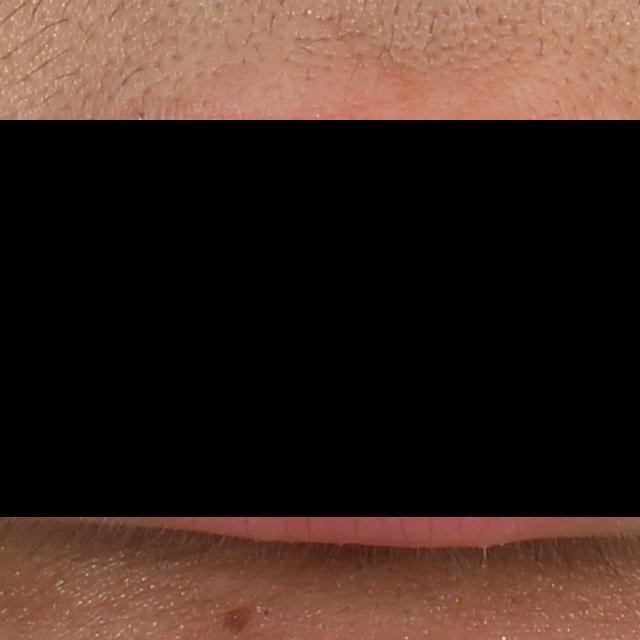comedo: (258, 604, 273, 621)
